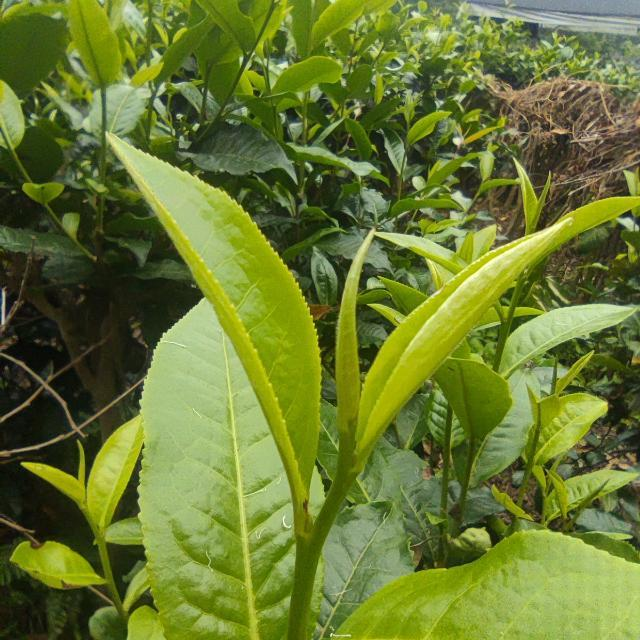Stem: (338, 464, 356, 485), (97, 535, 105, 549)
